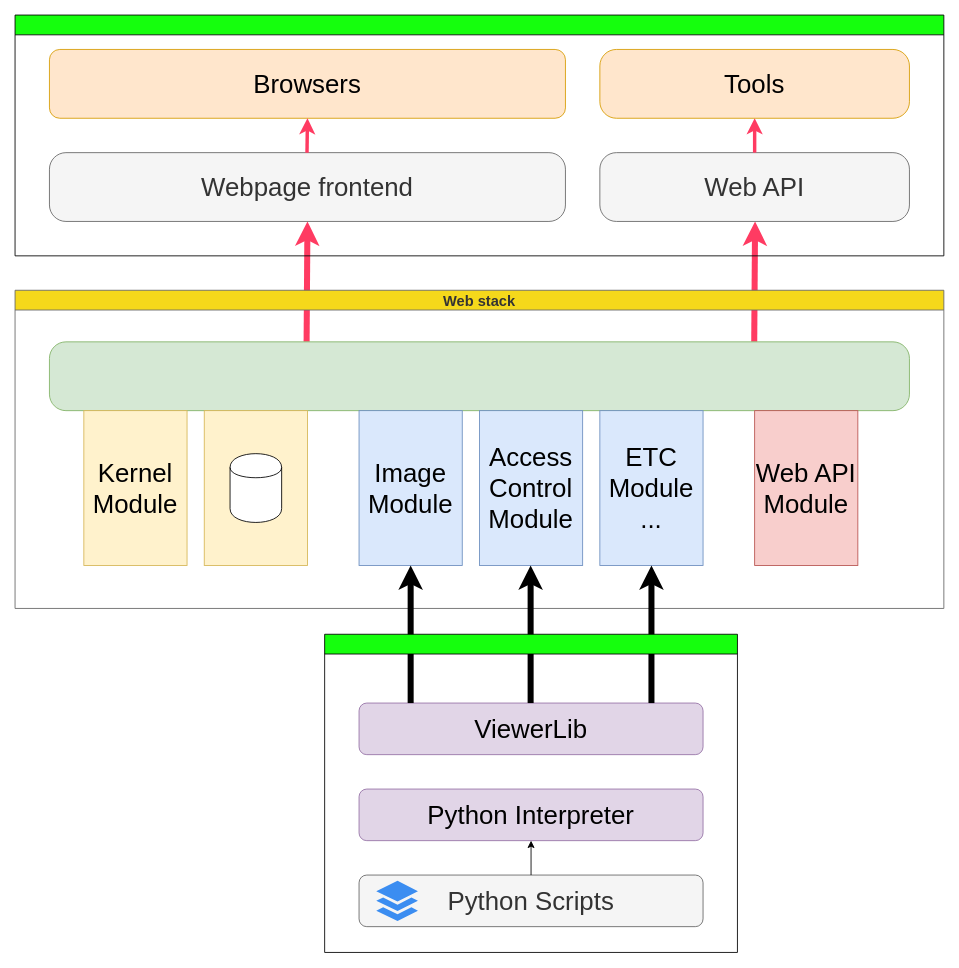
Image size: 959x968. Some labels were removed from this diagram. Here are the shapes that lost their labels. From the top down, the centre of each, then its label:
the point at 479,135: Container
the point at 479,376: Web framework
the point at 255,487: DB
the point at 530,792: Utility & Automation Back end
